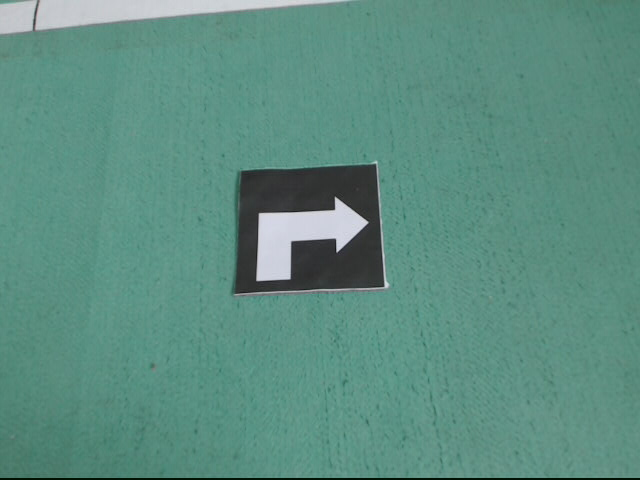right: (234, 162, 390, 295)
